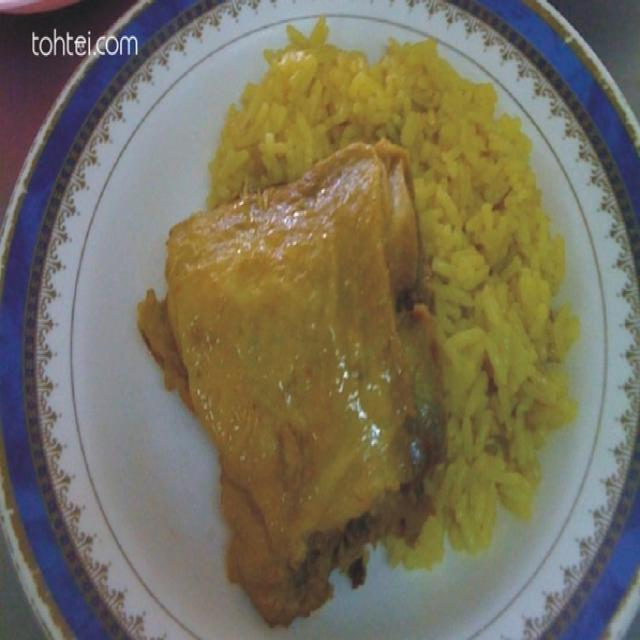米饭主食: (26, 9, 613, 616)
